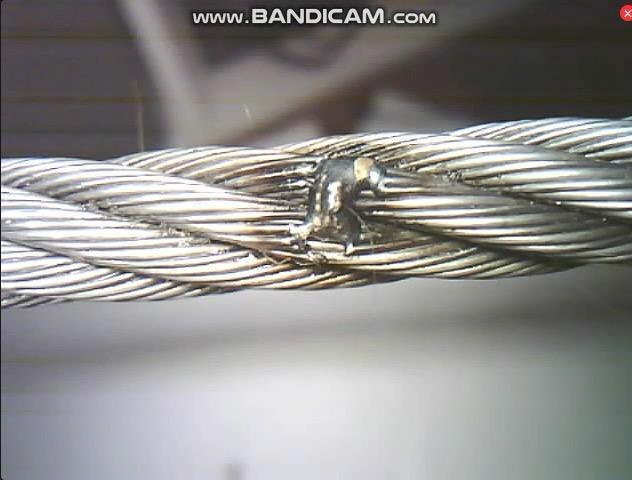thunderbolt: (268, 144, 410, 256)
